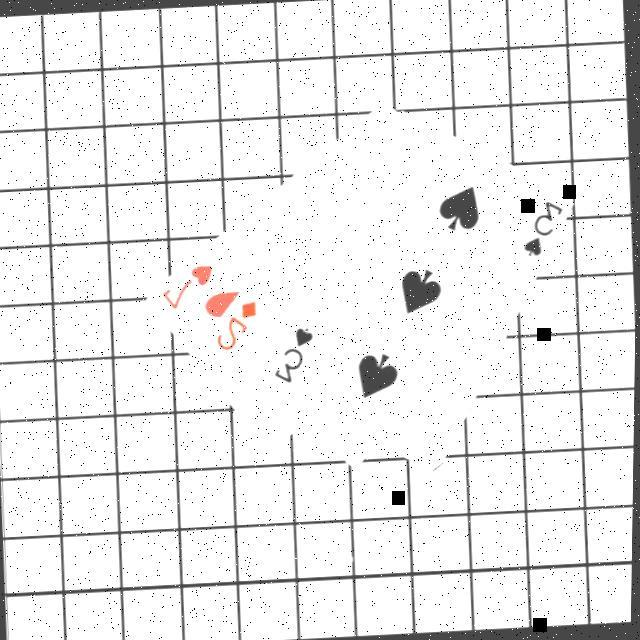2D: (212, 296, 264, 354)
3S: (270, 322, 322, 387), (519, 196, 570, 260)
7H: (158, 259, 220, 312)
